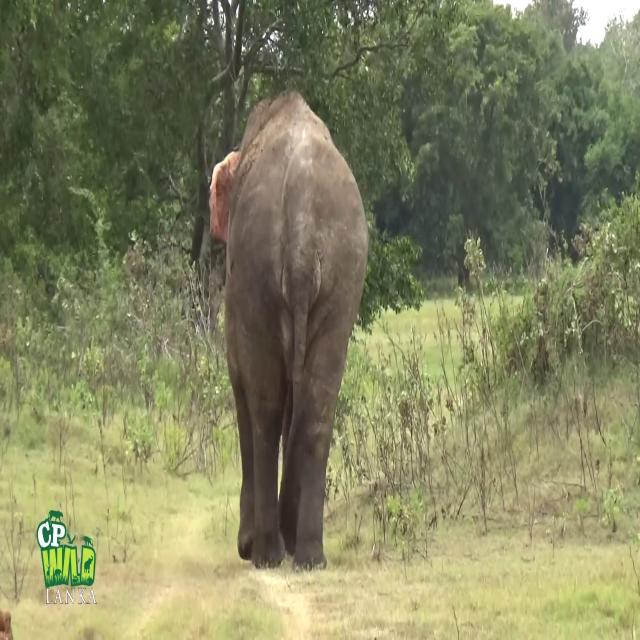Elephant: (208, 89, 369, 572)
